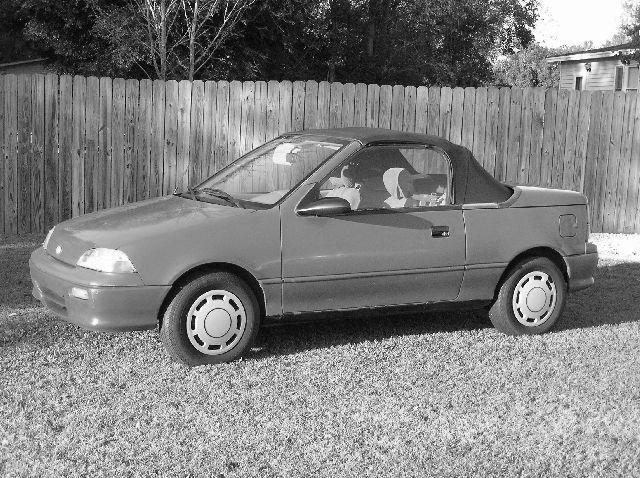car: (29, 129, 597, 364)
